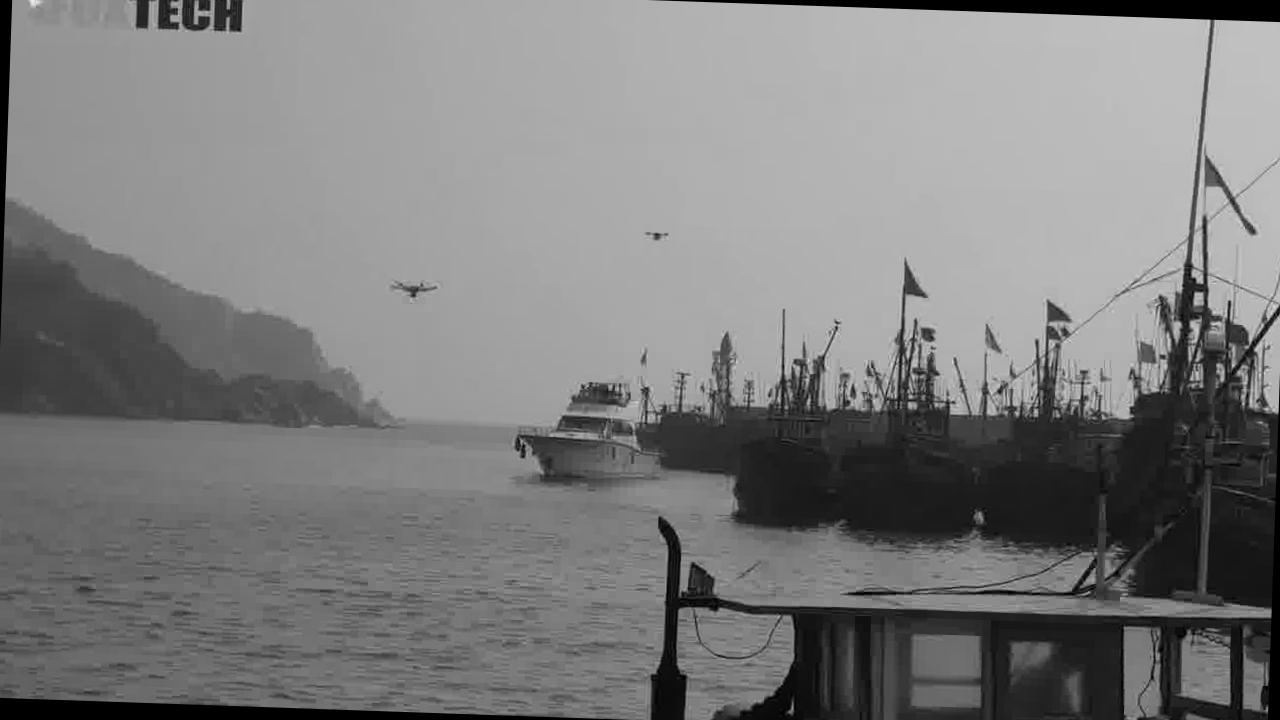drone: (389, 276, 438, 302)
